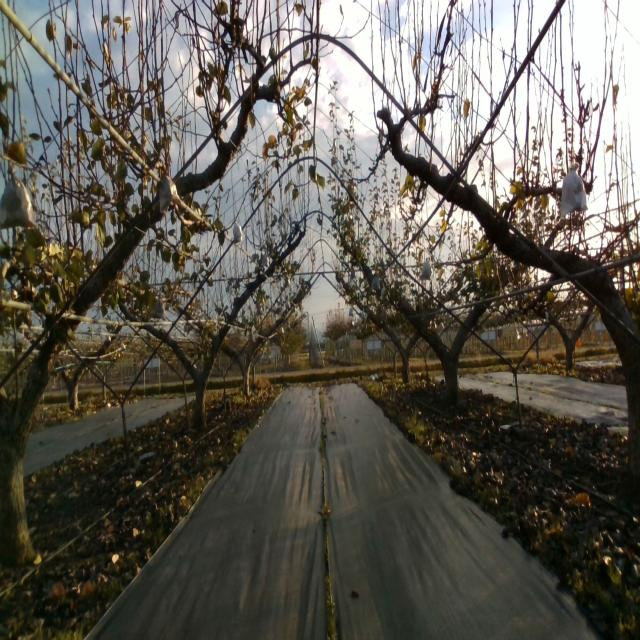pearbags: (0, 164, 37, 231), (560, 165, 588, 217), (159, 174, 181, 214), (420, 259, 432, 280), (232, 220, 242, 244)
